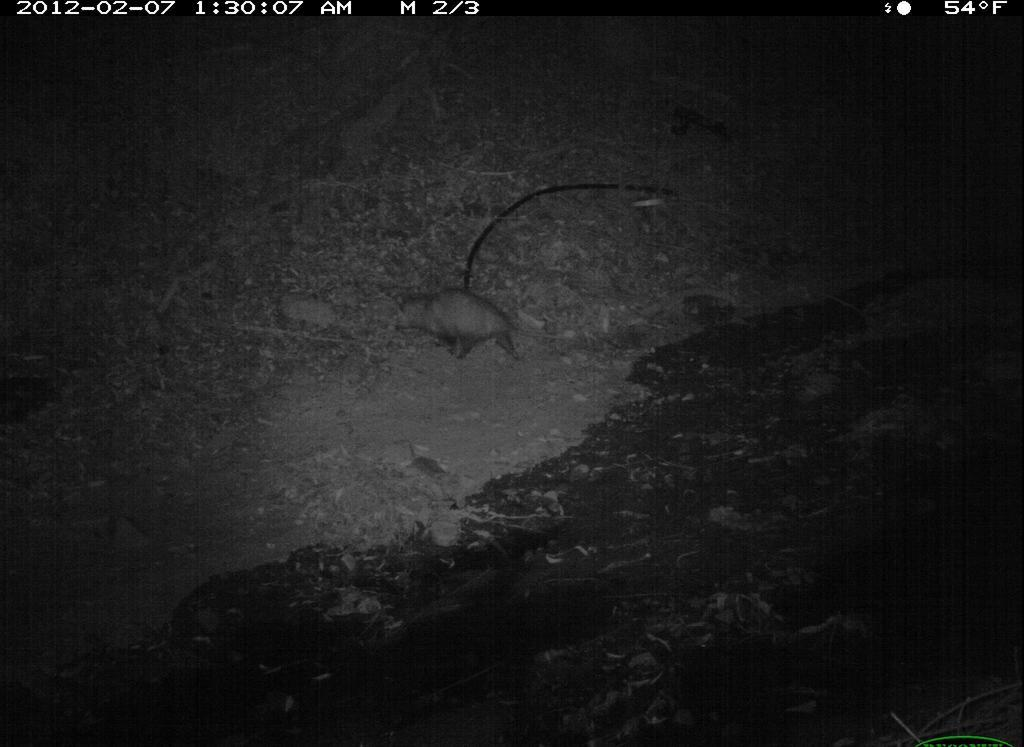opossum: (378, 265, 540, 373)
